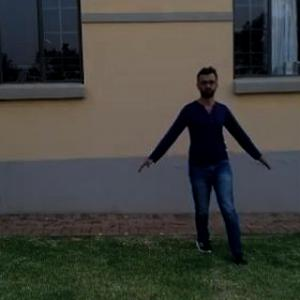land: (146, 71, 276, 243)
